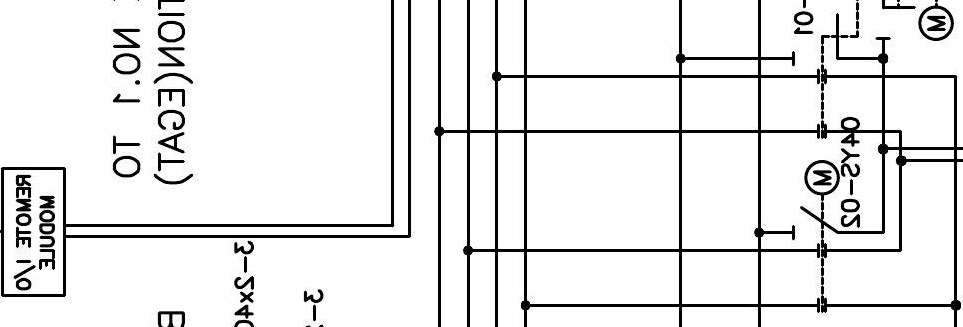115_1way_ds_w_motor: (791, 159, 841, 242)
remote_io_module: (1, 166, 67, 297)
